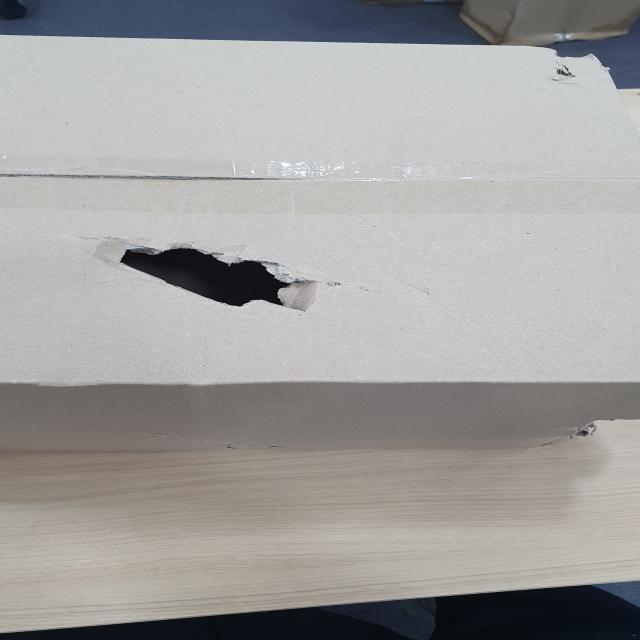hole: (103, 238, 314, 313)
